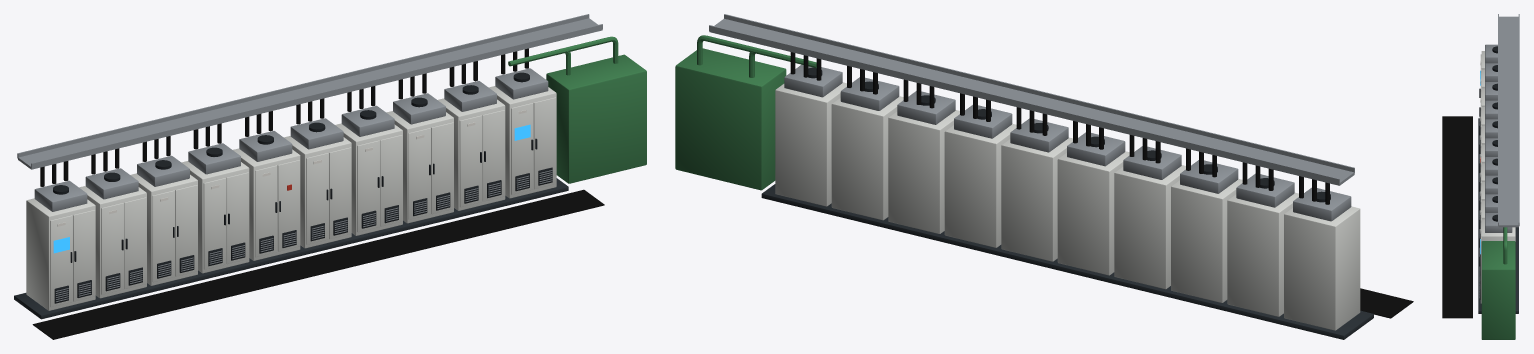
Rendered from drives.glb.
The picture shows the model from 3 angles, left to right: view 1: azimuth 30°, elevation 25°; view 2: azimuth 150°, elevation 25°; view 3: azimuth 270°, elevation 25°; orthographic projection. The views are drawn at different scales.
Visible parts, largest first — view 1: drives; view 2: drives; view 3: drives.
Part boxes in pixels (x1,y1,x2,y2): drives: (14, 14, 646, 339); drives: (675, 14, 1413, 339); drives: (1442, 14, 1519, 339).
Size of the model in its own units: 15.75 by 3.52 by 2.27.
